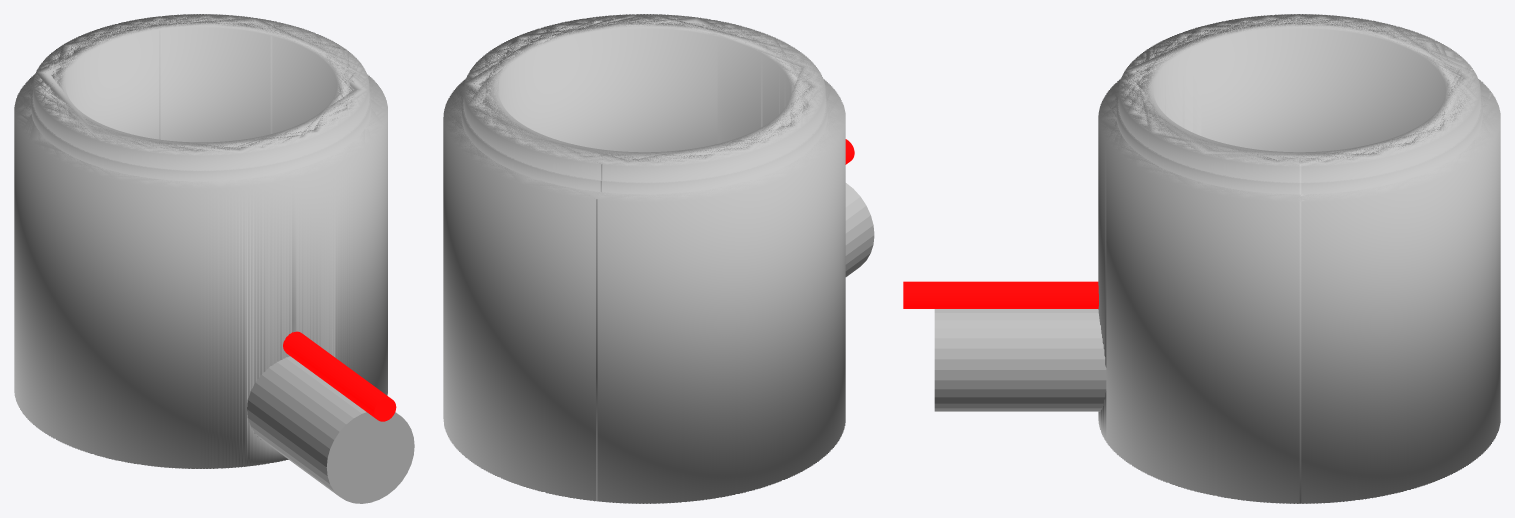
The model's file is LOT129_ade5593e.glb.
3 views of the same model, side by side, from view 1: azimuth 30°, elevation 25°; view 2: azimuth 150°, elevation 25°; view 3: azimuth 270°, elevation 25° (orthographic). The views are drawn at different scales.
Parts seen in each view (by area): view 1: 1200x1.219r_Obj, Cylinder.003; view 2: 1200x1.219r_Obj; view 3: 1200x1.219r_Obj, Cylinder.003.
Part boxes in pixels (bbox=[...]): 1200x1.219r_Obj: bbox=[14, 14, 414, 503]; Cylinder.003: bbox=[283, 331, 396, 421]; 1200x1.219r_Obj: bbox=[443, 14, 874, 503]; 1200x1.219r_Obj: bbox=[934, 14, 1500, 503]; Cylinder.003: bbox=[903, 281, 1098, 308].
Bounding box in the file's own units: 1.47 × 1.33 × 2.19.
